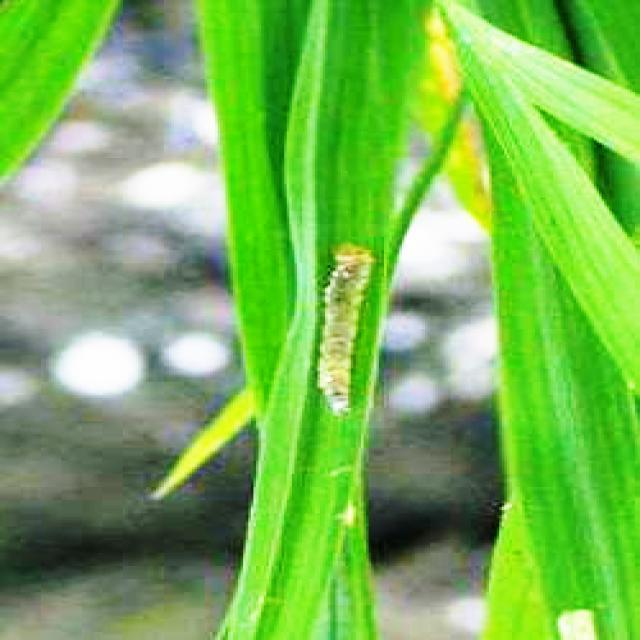leaf-folder: (289, 224, 396, 428)
